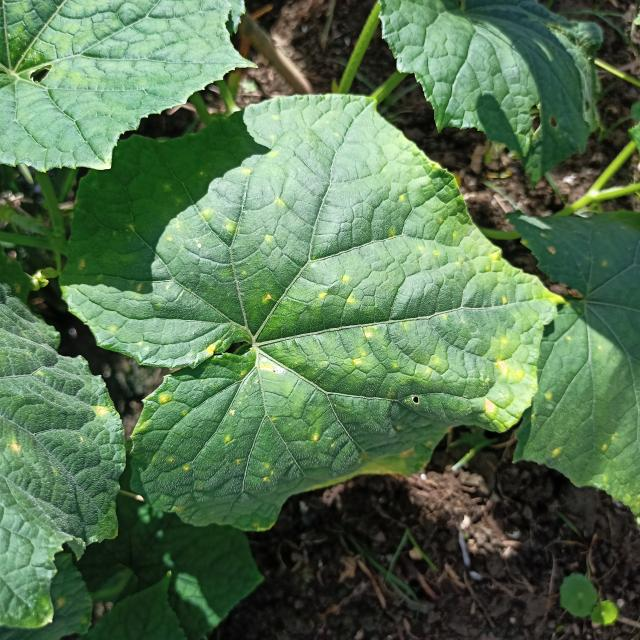disease_cucumber: (402, 240, 533, 425), (317, 267, 383, 372), (145, 388, 197, 478), (163, 204, 241, 261)
